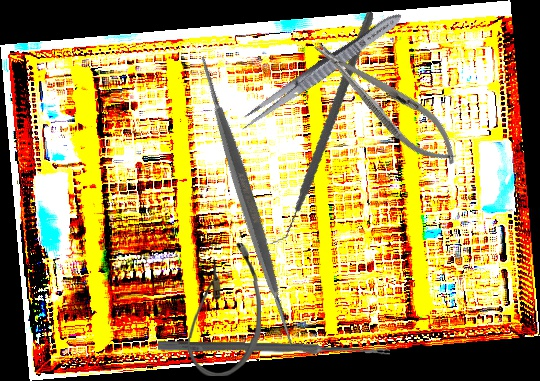Cannula: (187, 242, 263, 377)
Chopper: (226, 11, 413, 245)
Dressing Forceps: (234, 6, 408, 136)
Needle Holder: (302, 26, 471, 178)
Spatula Surgical: (86, 40, 407, 363)
Surgical Spoon: (157, 340, 391, 357)
